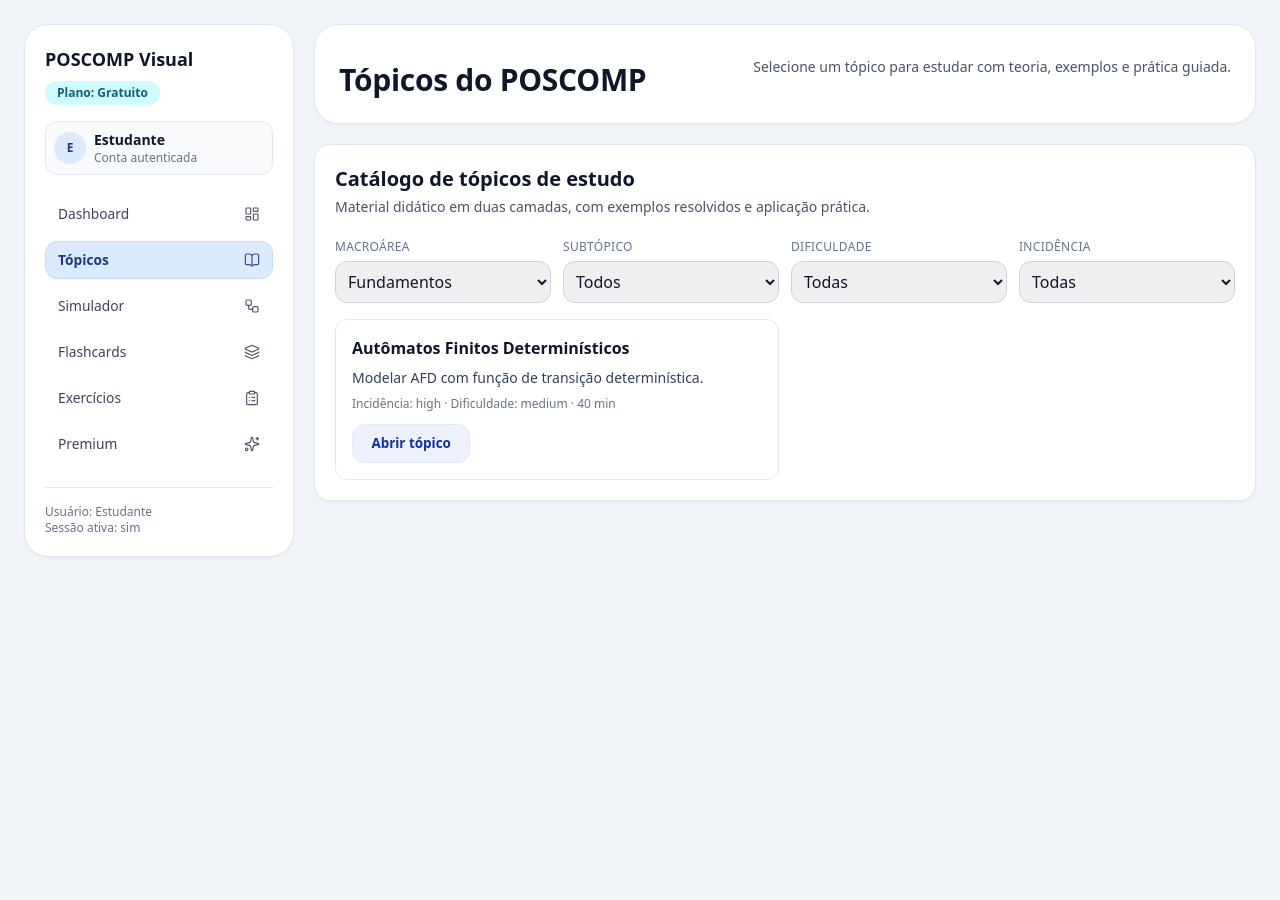
it: módulo de tópicos › abre detalhe com camada essencial e avançada recolhida
Click the button "Tópicos". click: point(159, 260)
box: [45, 241, 273, 279]
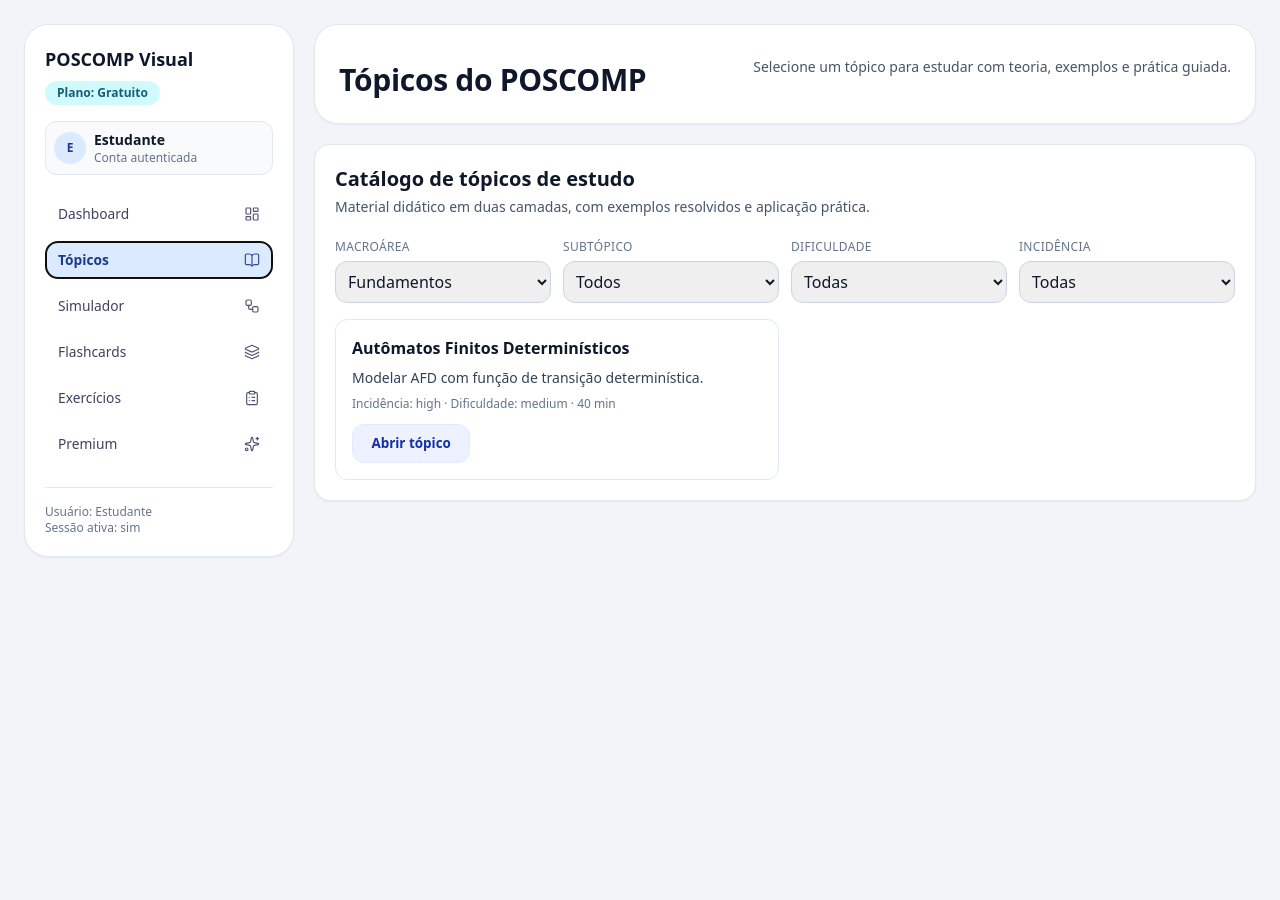
Expected: the heading "Autômatos Finitos Determinísticos" is shown, [352, 336, 630, 358]
Click the button "Abrir tópico". click: point(411, 443)
box: [352, 424, 470, 463]
(page scrolled)
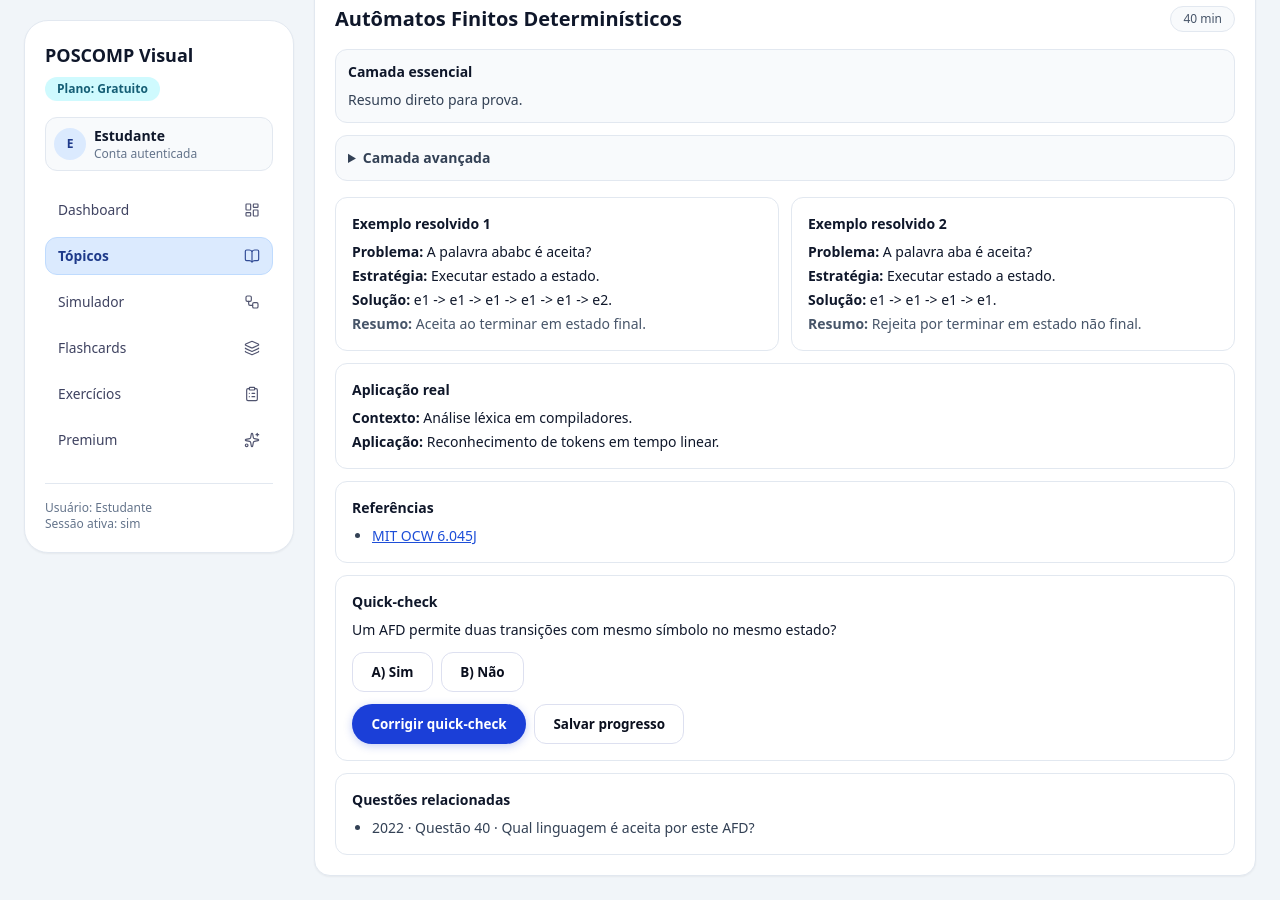
Now the heading "Autômatos Finitos Determinísticos" is shown, box [335, 5, 682, 33]
Now the text "Resumo direto para prova." is shown, box [348, 90, 522, 109]
Now the text "Camada avançada" is shown, box [335, 135, 1235, 181]
